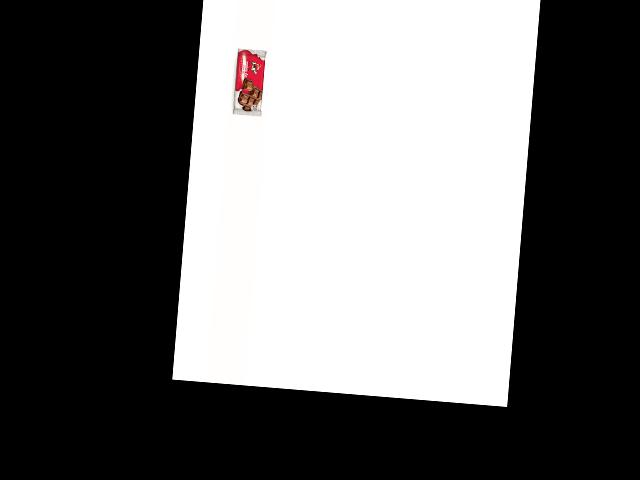chocolate: (216, 36, 263, 117)
